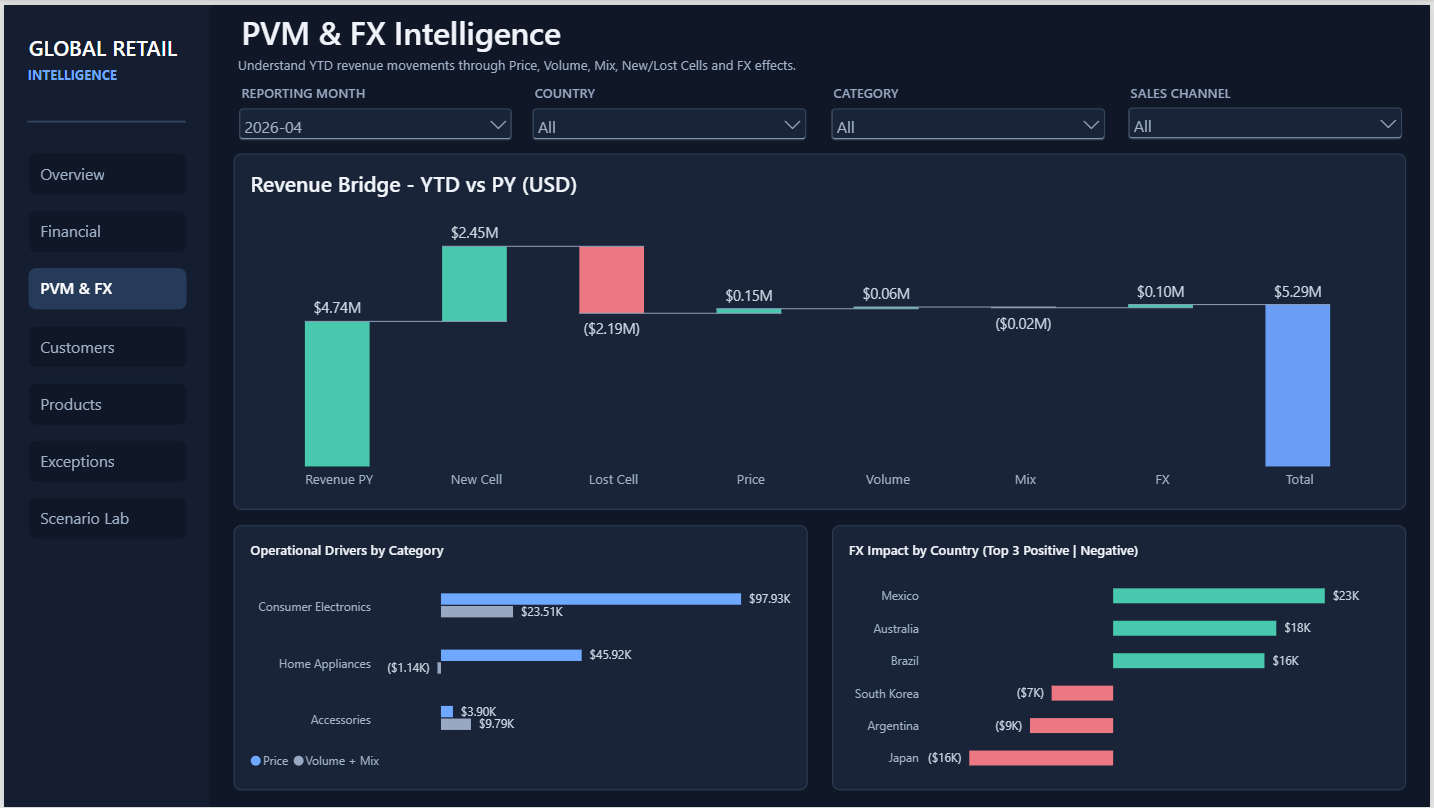

What the dashboard file says about the page in this screenshot:
{"tool":"powerbi","page":{"name":"PVM & FX","canvas":[1440,810],"ordinal":2},"visuals":[{"type":"shape","title":"Sidebar Background","box":[0,0,207.8,810],"z":0},{"type":"textbox","title":"Sidebar Brand Title","box":[24.1,28,168,30],"z":1000},{"type":"textbox","title":"Sidebar Brand Subtitle","box":[24,60,168,22],"z":2000},{"type":"shape","title":"Line","box":[24,112,160,12],"z":3000},{"type":"pageNavigator","box":[24.4,150,160,392],"z":4000},{"type":"waterfallChart","title":"Revenue Bridge - YTD vs PY (USD)","fields":{"Category":["PVMWaterfallAxis.StepLabel"],"Y":["_Measures.PVM Waterfall Value USD"]},"box":[232,150,1184.4,360],"z":5000},{"type":"slicer","fields":{"Values":["DimDate.YearMonth"]},"box":[232.1,80,286.4,63.2],"z":6000},{"type":"slicer","fields":{"Values":["DimCountry.country_name"]},"box":[528.4,80,287.4,70.1],"z":7000},{"type":"slicer","fields":{"Values":["DimCategory.category_name"]},"box":[829.6,80,287.4,70.1],"z":8000},{"type":"slicer","fields":{"Values":["DimSalesChannel.sales_channel_name"]},"box":[1129.9,79,287.4,64.2],"z":9000},{"type":"clusteredBarChart","title":"Operational Drivers by Category","fields":{"Category":["DimCategory.category_name"],"Y":["_Measures.PVM Price Effect USD","_Measures.PVM Volume & Mix Effect USD"]},"box":[232.2,525.6,580,267.8],"z":10000},{"type":"clusteredBarChart","title":"FX Impact by Country (Top 3 Positive | Negative)","fields":{"Category":["DimCountry.country_name"],"Y":["_Measures.PVM FX Effect USD"]},"box":[836.7,525.6,580,267.8],"z":11000},{"type":"textbox","title":"Header Page Title","box":[240,5.6,648.9,53.3],"z":12000},{"type":"textbox","title":"Header Subtitle","box":[236.7,50,650,27.8],"z":13000}]}

Visuals, with their boxes in screenshot pixels (x1, y1, x2, y2), scaled from the page's 1440x810 canvas onto the 1434x808 screenshot:
"Sidebar Background" shape: (left=0, top=0, right=207, bottom=807)
"Sidebar Brand Title" textbox: (left=24, top=28, right=191, bottom=58)
"Sidebar Brand Subtitle" textbox: (left=24, top=60, right=191, bottom=82)
"Line" shape: (left=24, top=112, right=183, bottom=124)
pageNavigator: (left=24, top=150, right=184, bottom=541)
"Revenue Bridge - YTD vs PY (USD)" waterfallChart: (left=231, top=150, right=1410, bottom=509)
slicer - DimDate.YearMonth: (left=231, top=80, right=516, bottom=143)
slicer - DimCountry.country_name: (left=526, top=80, right=812, bottom=150)
slicer - DimCategory.category_name: (left=826, top=80, right=1112, bottom=150)
slicer - DimSalesChannel.sales_channel_name: (left=1125, top=79, right=1411, bottom=143)
"Operational Drivers by Category" clusteredBarChart: (left=231, top=524, right=809, bottom=791)
"FX Impact by Country (Top 3 Positive | Negative)" clusteredBarChart: (left=833, top=524, right=1411, bottom=791)
"Header Page Title" textbox: (left=239, top=6, right=885, bottom=59)
"Header Subtitle" textbox: (left=236, top=50, right=883, bottom=78)
